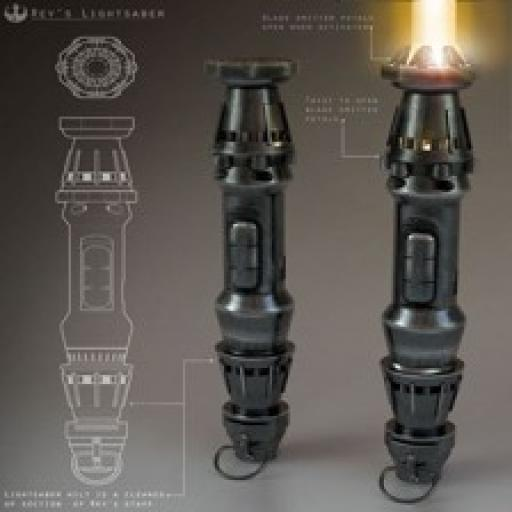lightsaber: (370, 0, 483, 488), (209, 50, 296, 467)
